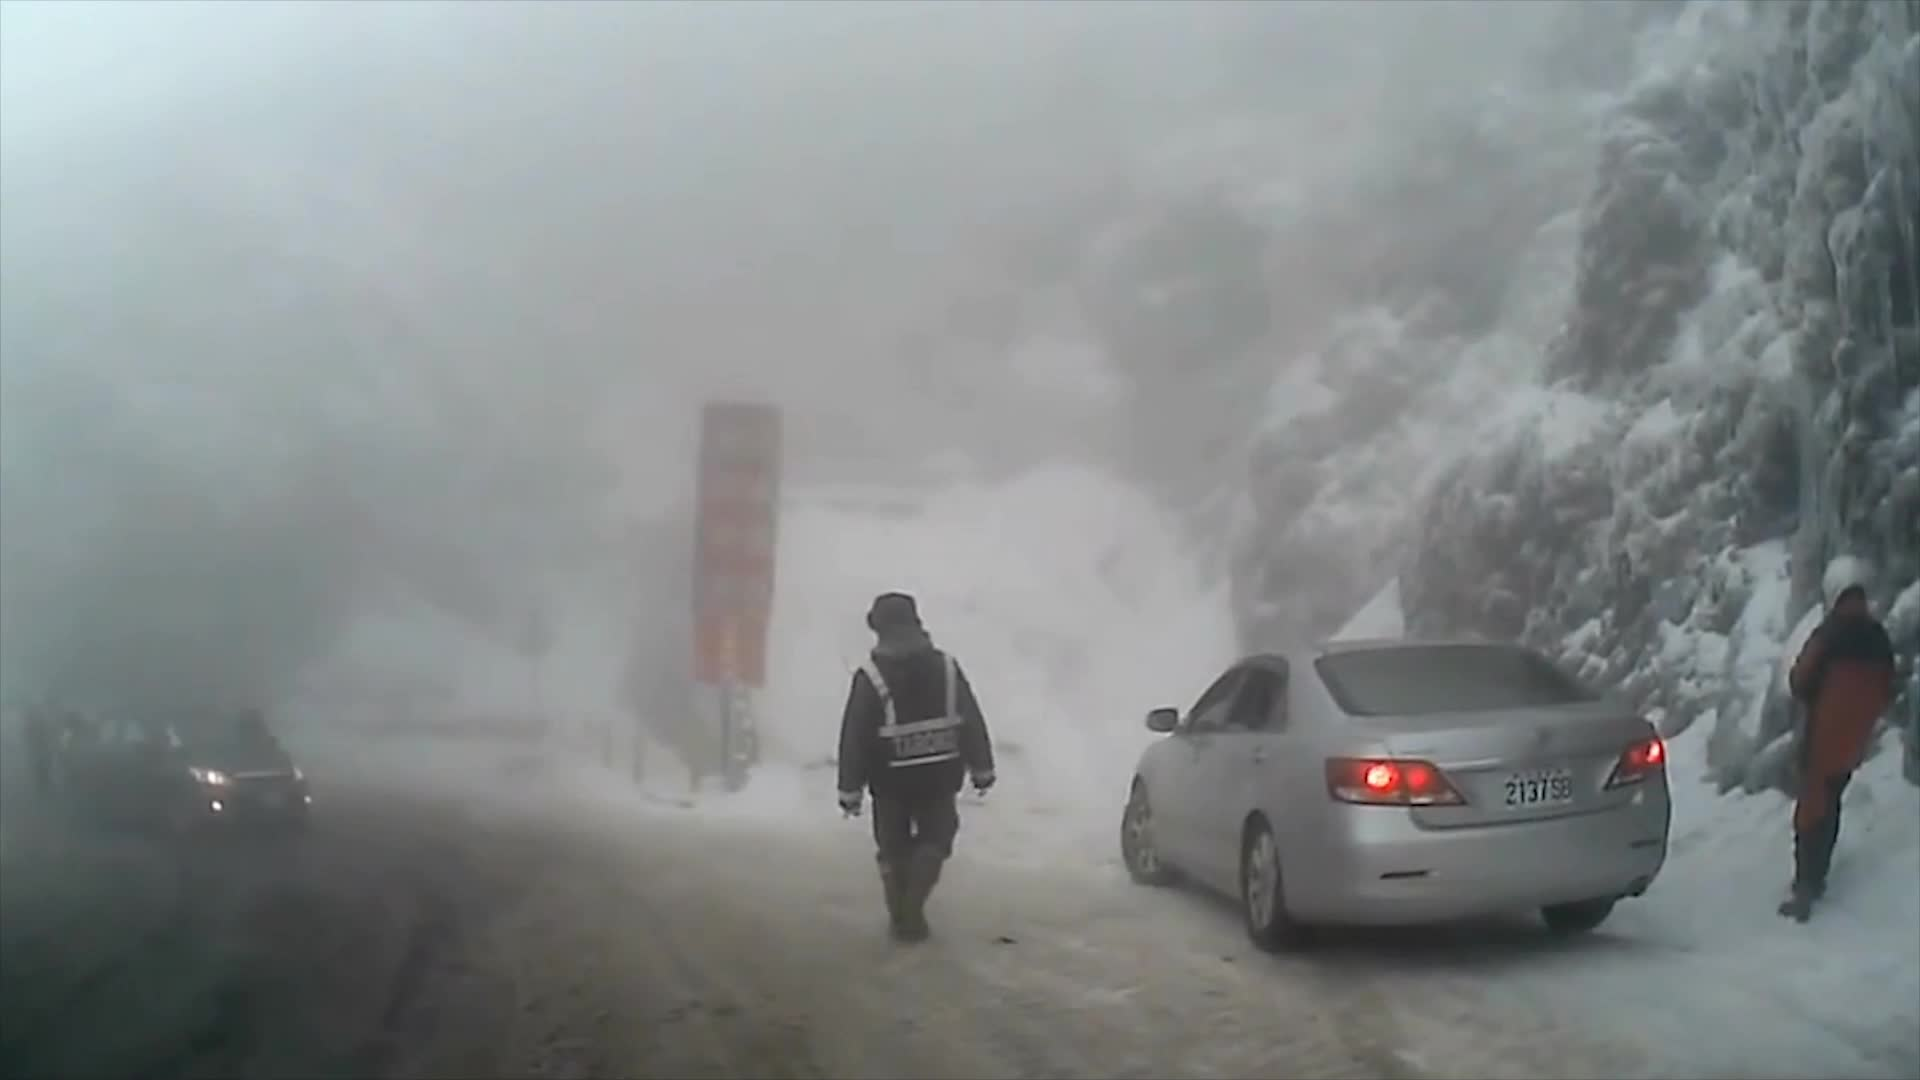pedestrian: (832, 591, 991, 951), (1776, 545, 1895, 917)
vehicle: (1118, 630, 1664, 941), (54, 697, 312, 846)
